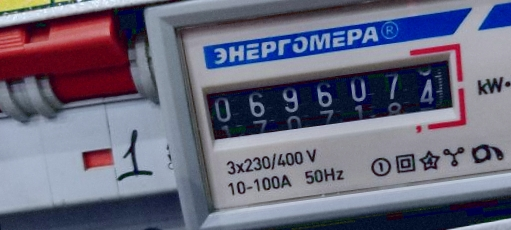0: (211, 92, 234, 124), (346, 73, 368, 103)
4: (415, 76, 436, 107)
6: (313, 78, 334, 108), (245, 89, 266, 118)
7: (380, 69, 403, 101)
9: (278, 84, 300, 115)
screen: (187, 38, 475, 161)
